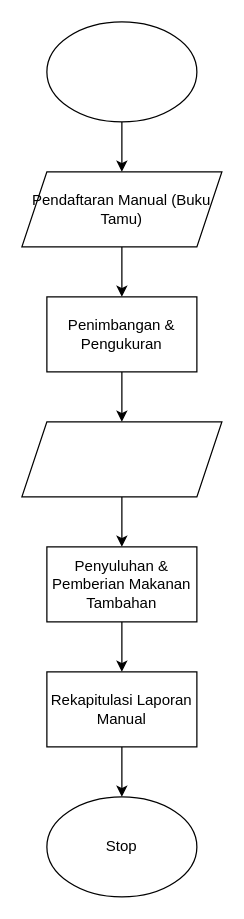
Some shapes in this 244 by 919 pixel diagram are drawn without their labels. The centre of each missing label's shape, as x and y in pixels:
"Pencatatan di KMS / Buku Register" goes at (x=121, y=459).
"Start" goes at (x=121, y=71).
